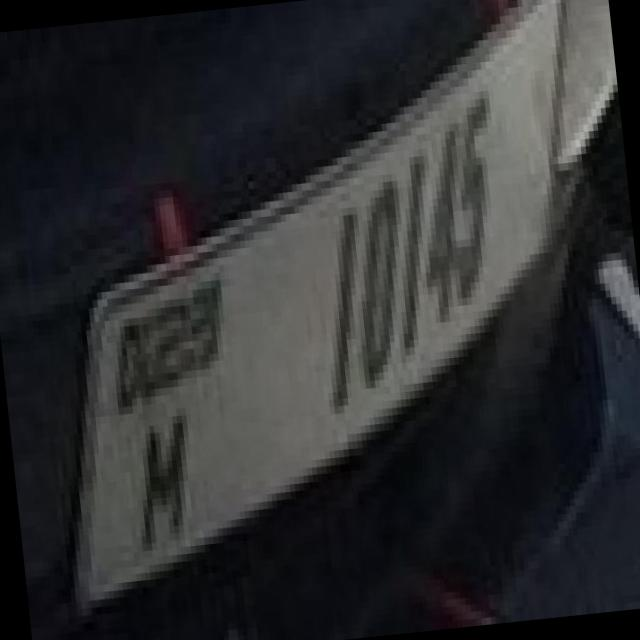1: (287, 178, 376, 402)
4: (385, 60, 527, 332), (80, 218, 260, 408)
D: (326, 150, 422, 382)
M: (103, 392, 209, 554)
